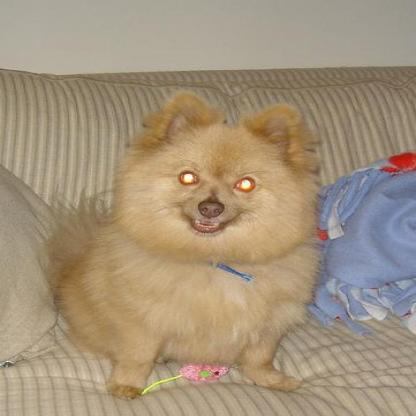Pomeranian: (51, 90, 315, 399)
